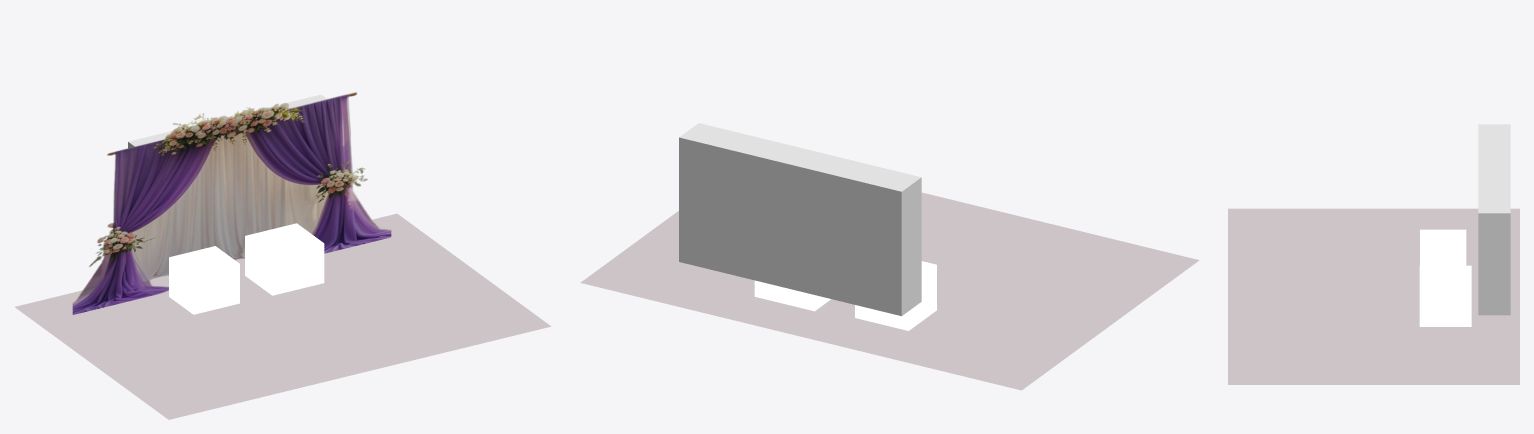
The model's file is purple-decoration-valima.glb.
3 views of the same model, side by side, from view 1: azimuth 30°, elevation 25°; view 2: azimuth 150°, elevation 25°; view 3: azimuth 270°, elevation 25° (orthographic). The views are drawn at different scales.
Visible parts, largest first — view 1: Plane (×2), Box (×3); view 2: Plane, Box (×3); view 3: Plane, Box (×3).
Part boxes in pixels (left/top/right/bottom): Plane (×2): left=15, top=92, right=551, bottom=419; Box (×3): left=128, top=94, right=327, bottom=314; Plane: left=580, top=192, right=1199, bottom=390; Box (×3): left=679, top=123, right=936, bottom=330; Plane: left=1228, top=208, right=1519, bottom=384; Box (×3): left=1419, top=124, right=1510, bottom=326.
Size of the model in its own units: 6.12 by 4.19 by 4.28.
5 materials, 1 textured.
